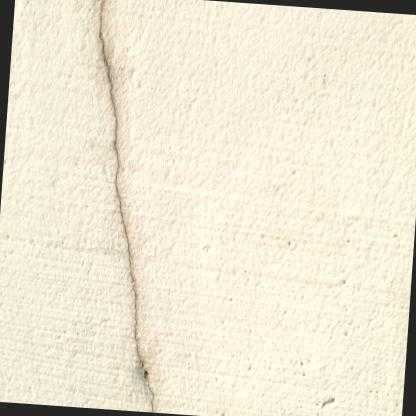crack: (98, 0, 154, 413)
